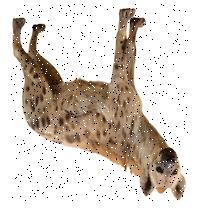hyena: (10, 3, 187, 200)
